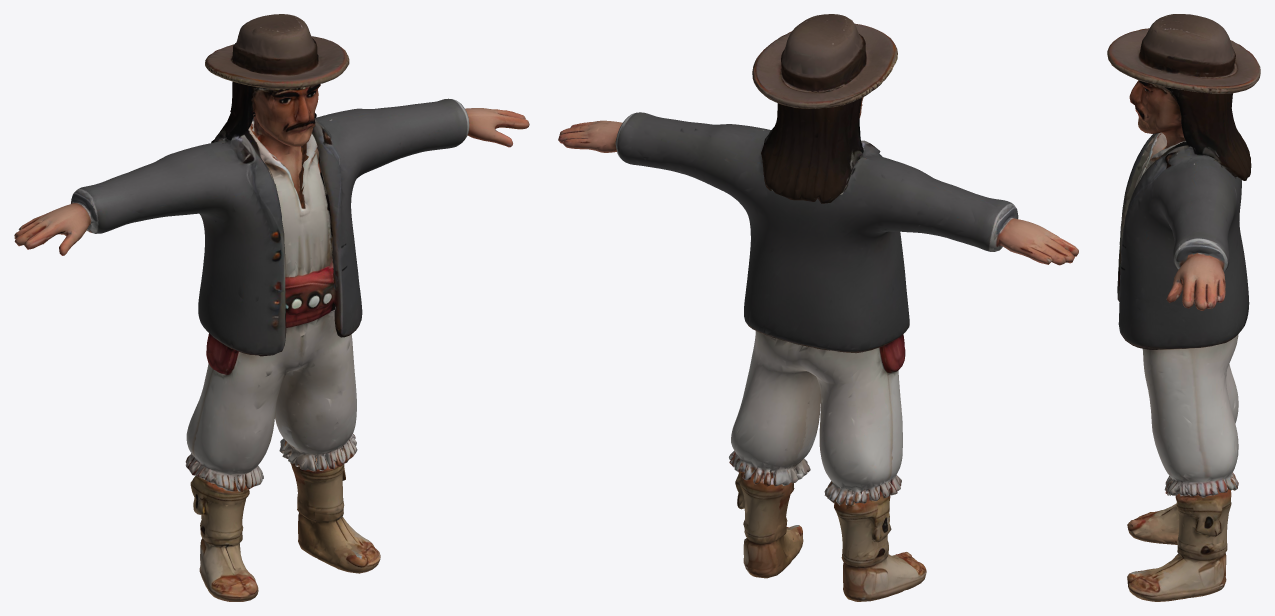
File: nicasio.glb
The picture shows the model from 3 angles, left to right: view 1: azimuth 30°, elevation 25°; view 2: azimuth 150°, elevation 25°; view 3: azimuth 270°, elevation 25°; orthographic projection.
Parts seen in each view (by area): view 1: nicasio; view 2: nicasio; view 3: nicasio.
Boxes of the visible parts, box(x1,y1,x2,y2) form: nicasio: box(14, 14, 529, 601); nicasio: box(558, 14, 1078, 601); nicasio: box(1107, 14, 1260, 601).
Bounding box in the file's own units: 1.68 × 1.72 × 0.4415.
1 material, 1 textured.
